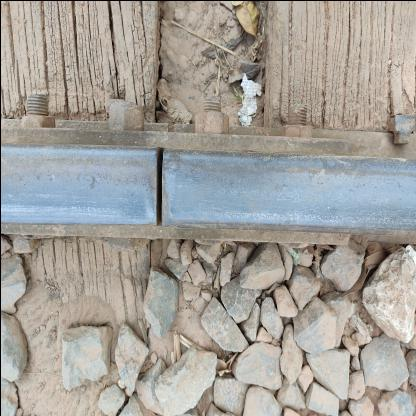Non Defective: (9, 60, 378, 254)
